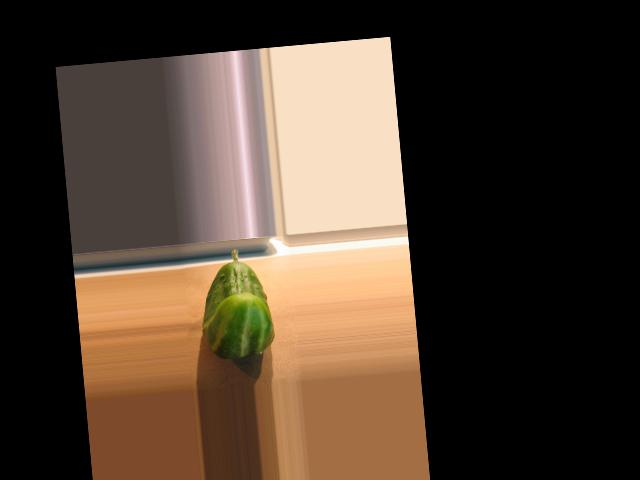cucumber: (196, 246, 277, 361)
